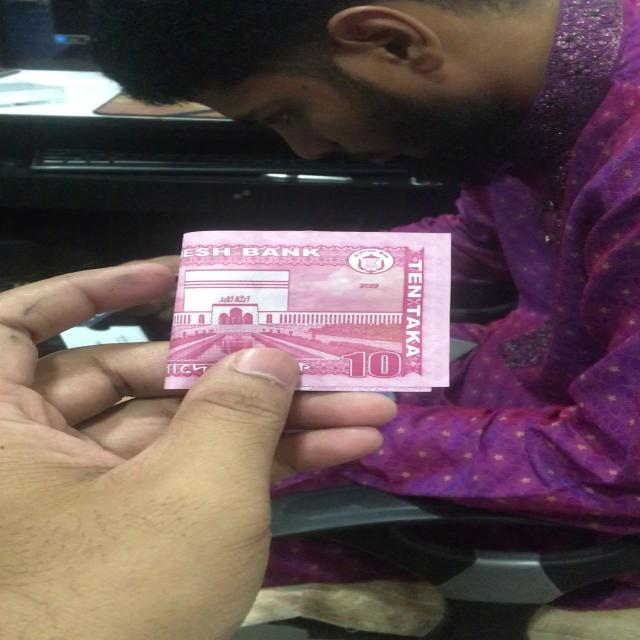Taka: (172, 230, 452, 387)
